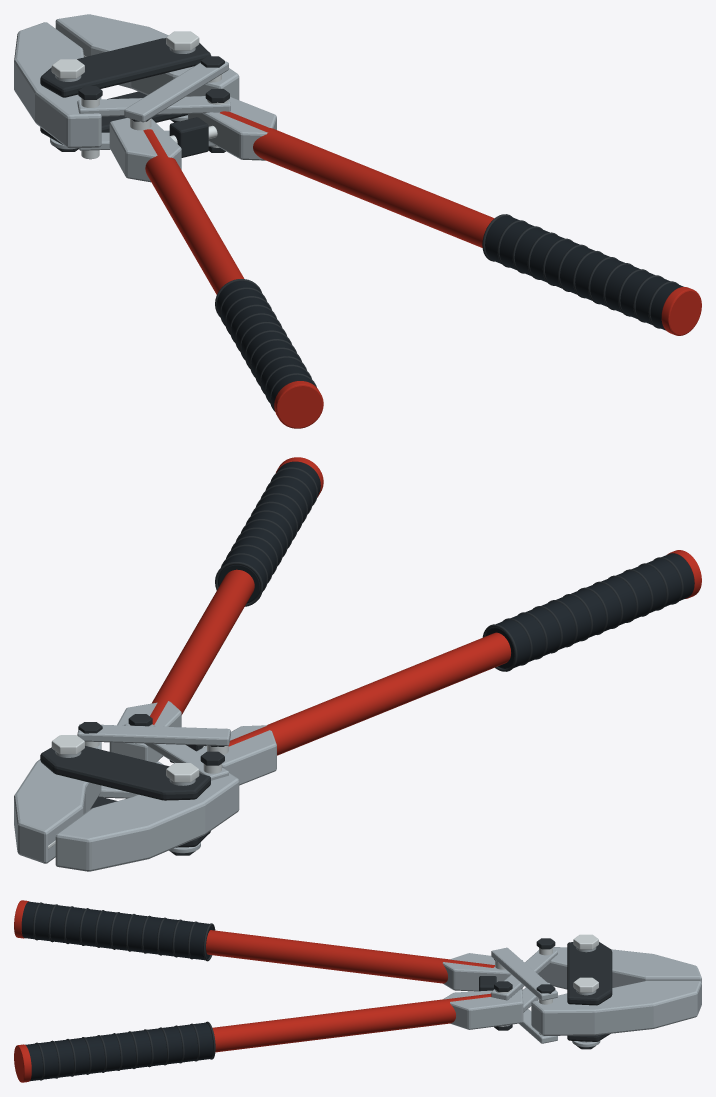
File: city-compound-bolt-cutters.glb
3 renders of one model, top to bottom at view 1: azimuth 30°, elevation 25°; view 2: azimuth 150°, elevation 25°; view 3: azimuth 270°, elevation 25°, orthographic. The views are drawn at different scales.
Parts seen in each view (by area): view 1: Assembly | Brushed tool steel, Assembly | Red grip coating, Assembly | Dark molded grips, Assembly | Blackened hardware, Assembly | Machined bright edges; view 2: Assembly | Brushed tool steel, Assembly | Red grip coating, Assembly | Dark molded grips, Assembly | Blackened hardware, Assembly | Machined bright edges; view 3: Assembly | Brushed tool steel, Assembly | Red grip coating, Assembly | Dark molded grips, Assembly | Blackened hardware, Assembly | Machined bright edges.
Boxes of the visible parts, box(x1,y1,x2,y2) form: Assembly | Brushed tool steel: box(14, 14, 276, 182); Assembly | Red grip coating: box(143, 111, 701, 428); Assembly | Dark molded grips: box(216, 216, 683, 409); Assembly | Blackened hardware: box(40, 38, 678, 411); Assembly | Machined bright edges: box(51, 31, 228, 159); Assembly | Brushed tool steel: box(14, 701, 276, 871); Assembly | Red grip coating: box(150, 457, 701, 755); Assembly | Dark molded grips: box(218, 461, 694, 668); Assembly | Blackened hardware: box(40, 467, 683, 855); Assembly | Machined bright edges: box(48, 725, 228, 849); Assembly | Brushed tool steel: box(442, 947, 701, 1047); Assembly | Red grip coating: box(14, 900, 494, 1082); Assembly | Dark molded grips: box(21, 901, 213, 1081); Assembly | Blackened hardware: box(33, 902, 612, 1080); Assembly | Machined bright edges: box(495, 934, 598, 1034).
Size of the model in its own units: 0.3201 by 0.0592 by 0.5806.
